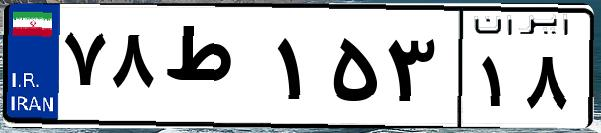1: (270, 28, 330, 110), (475, 38, 525, 113)
3: (385, 28, 445, 110)
5: (330, 28, 385, 110)
7: (57, 26, 110, 100)
8: (525, 38, 570, 115), (110, 28, 158, 98)
ط: (158, 20, 270, 120)
